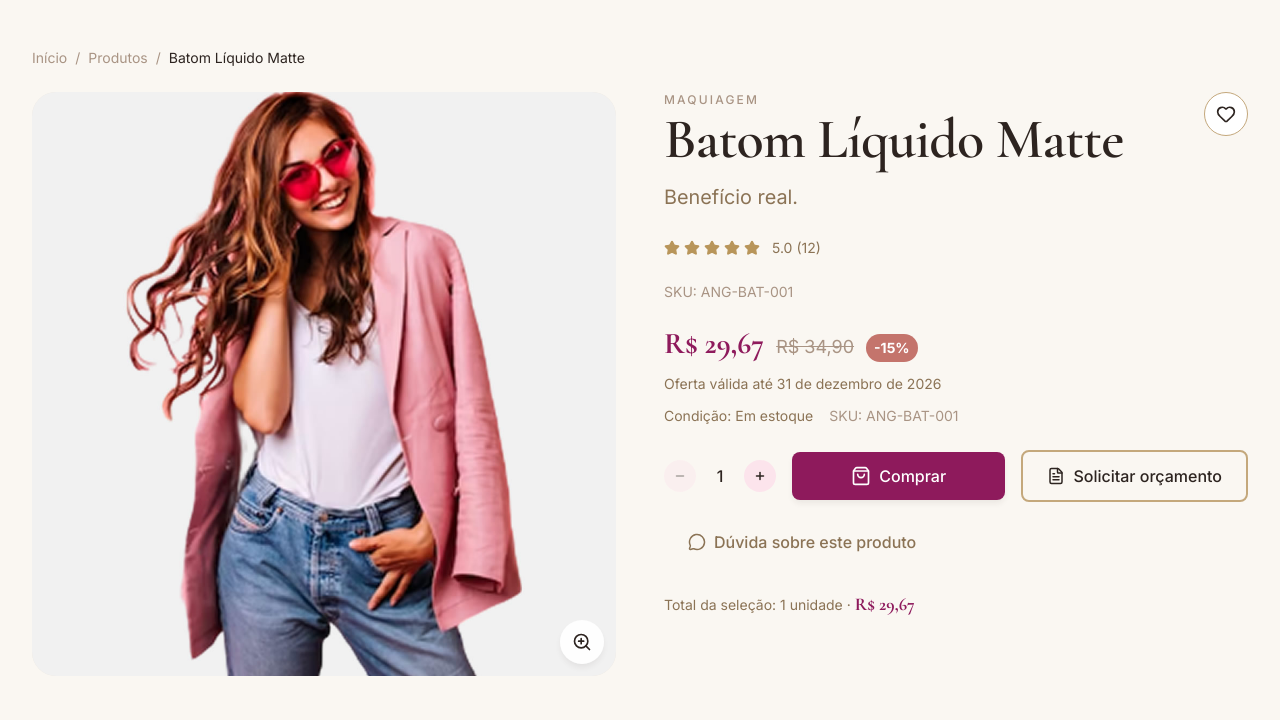
Test case: ProductDetailPage — quantidade em tempo real › +/− recalcula o total na hora, sem entrar no carrinho
Click the button named "aumentar quantidade". click: (760, 476)
box: 744,460 -> 776,492
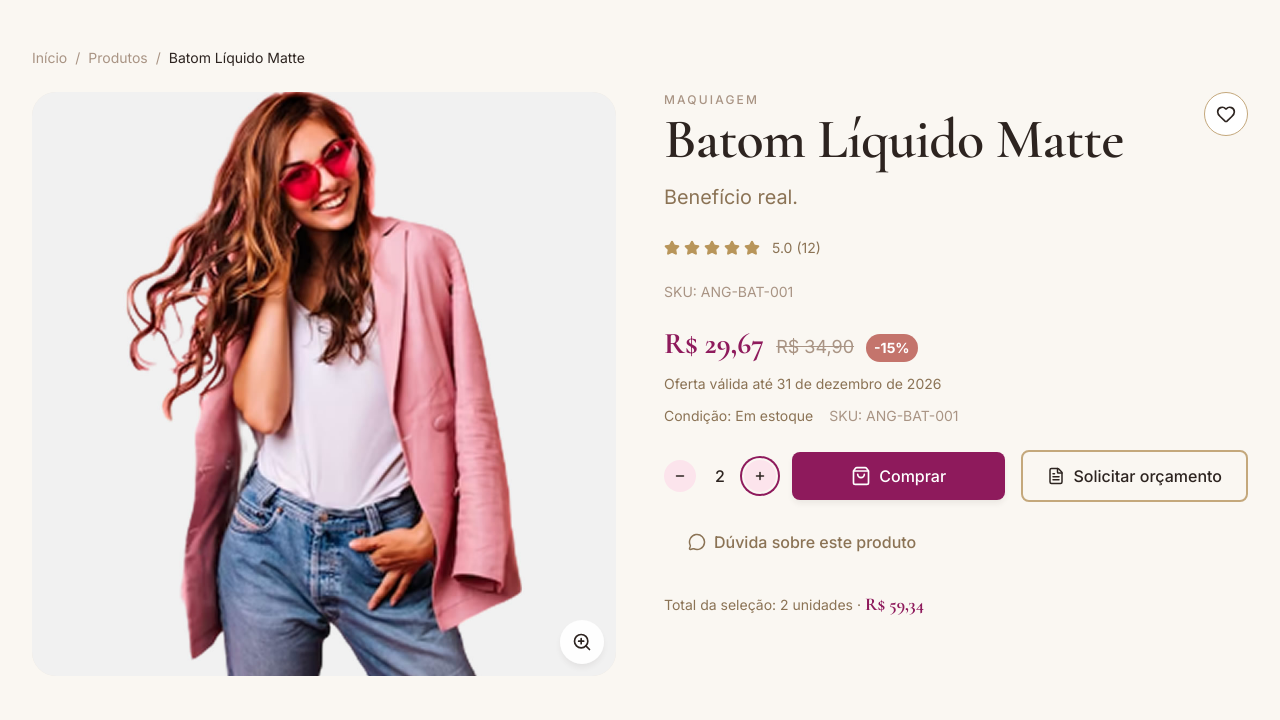
Expected: the text "Total da seleção: 2 unidades · R$ 59,34" is shown, 664,593 -> 924,615
Click the button named "diminuir quantidade". click: (680, 476)
box: 664,460 -> 696,492
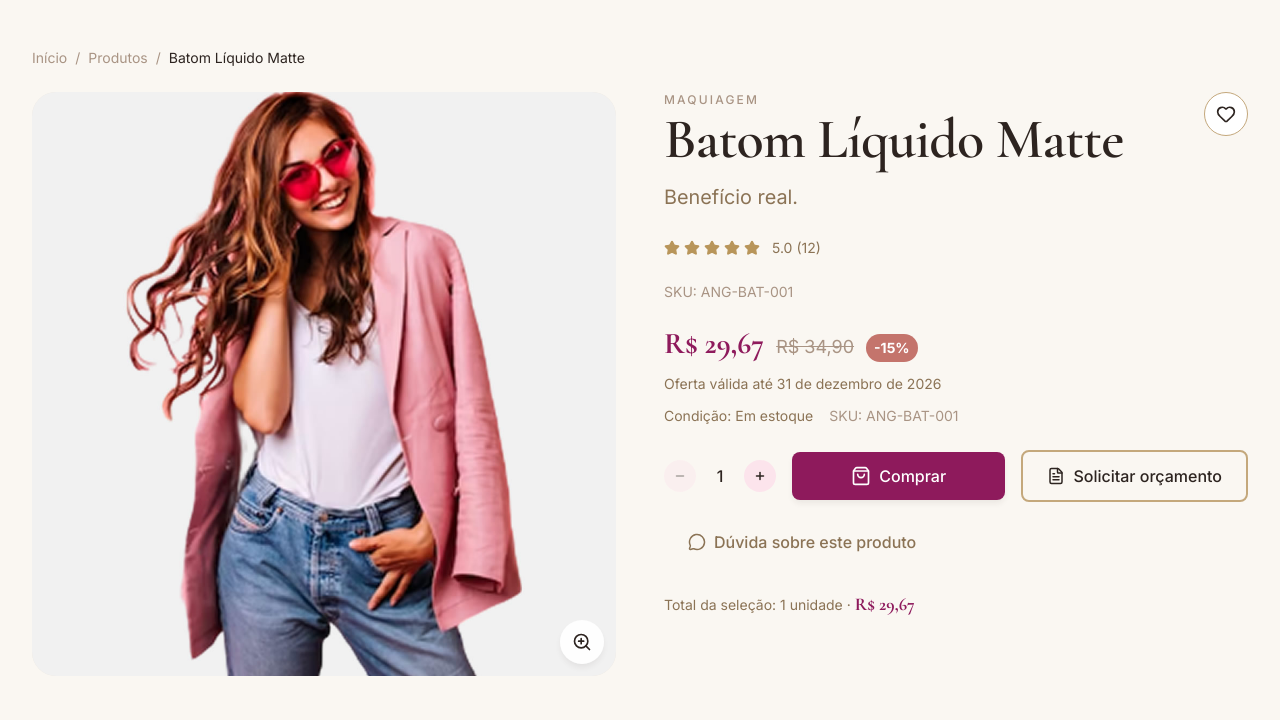
Expected: the text "Total da seleção: 1 unidade · R$ 29,67" is shown, 664,593 -> 915,615
